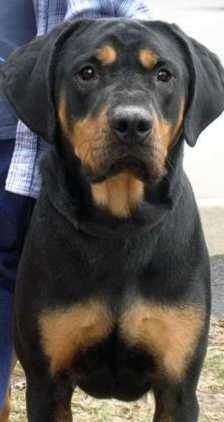Dog: (22, 19, 223, 396)
